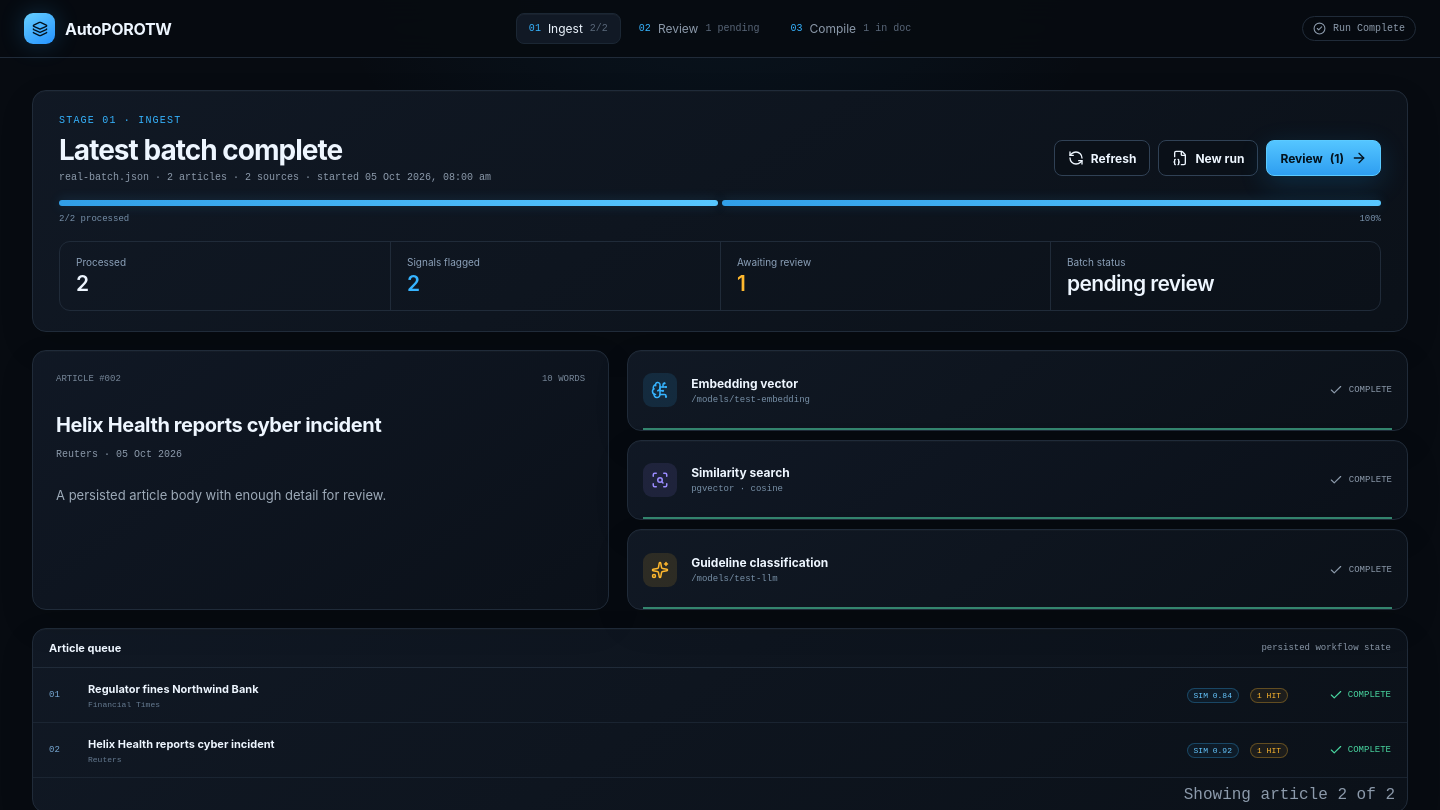
Test: AutoPOROTW API integration › keeps review decisions local and adds relevant articles to the local compilation
expect the heading "Latest batch complete" is shown: met, box [59,133,342,167]
Click the button "02 Review 1 pending" at (699, 28), box [626,13,772,44]
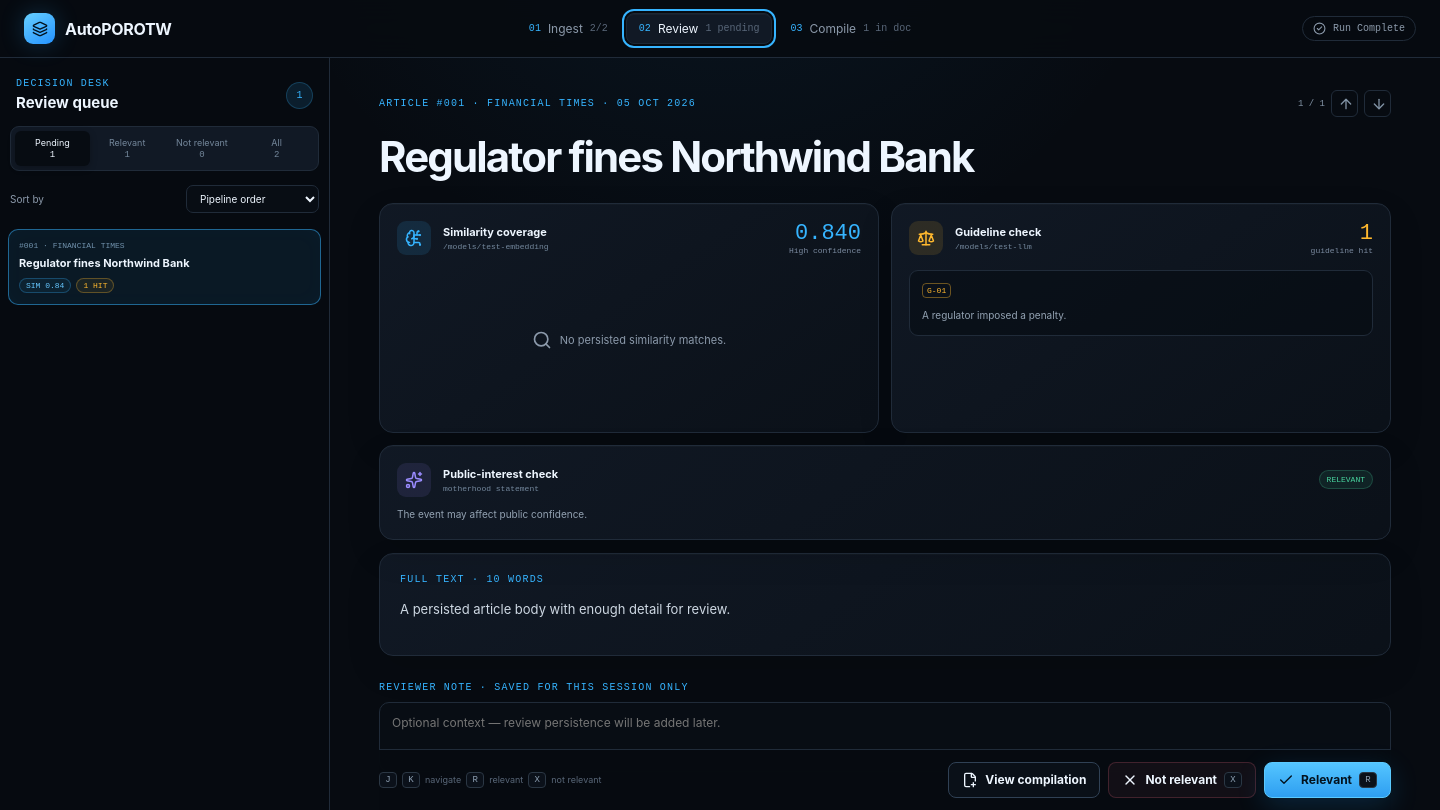
Click the button "Relevant R" at (1328, 780), box [1264,762,1391,798]
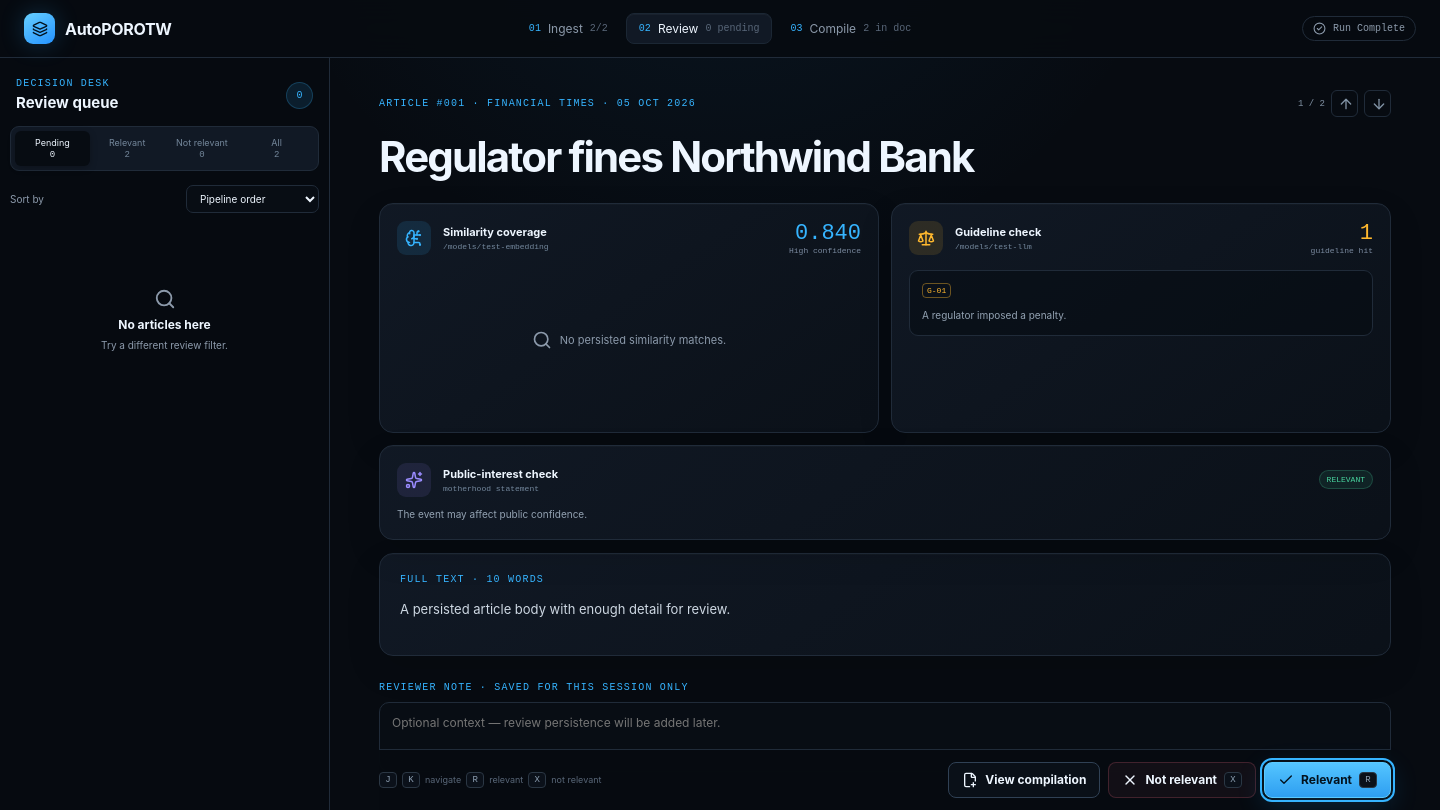
expect the button "03 Compile 2 in doc" is shown: met, box [778,13,924,44]
